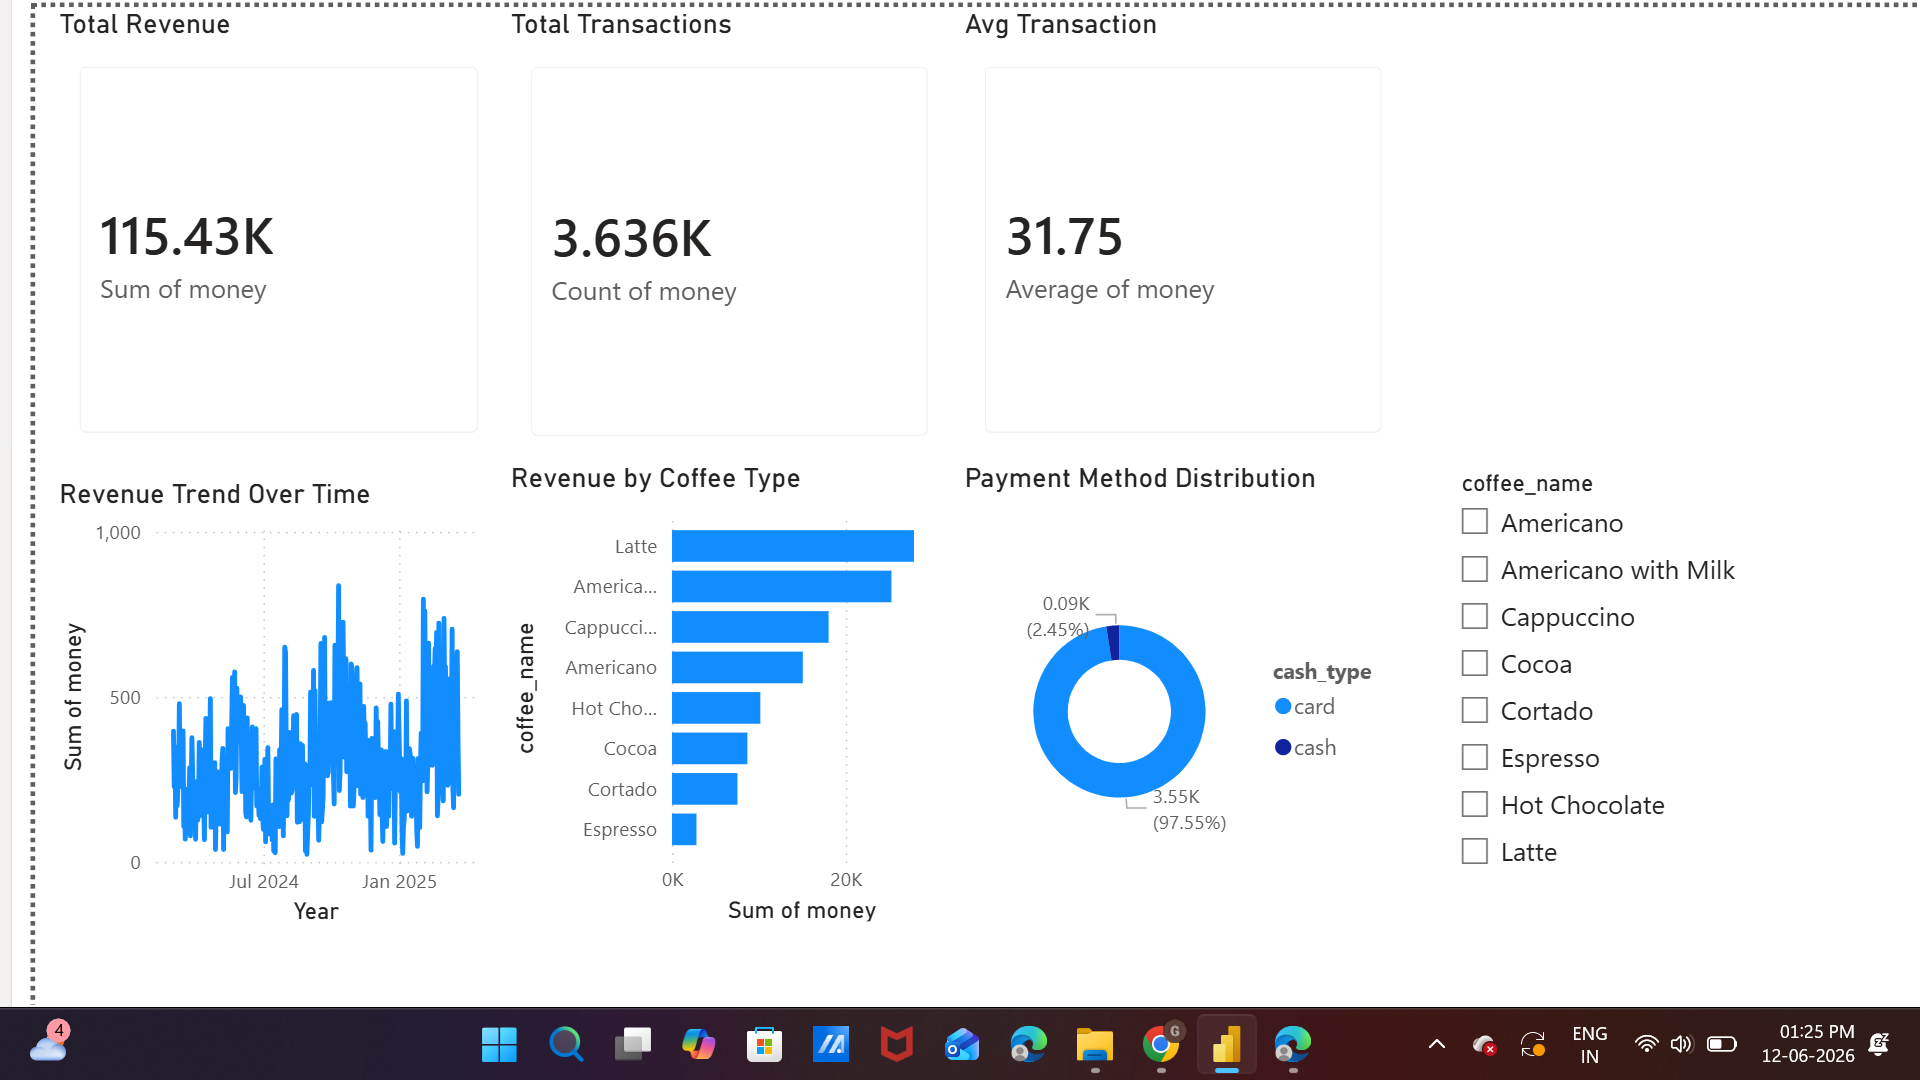

Layout of this report page (visuals, bound fields, positions):
{"tool":"powerbi","page":{"name":"Page 1","canvas":[1280,720],"ordinal":0},"visuals":[{"type":"cardVisual","title":"Total Revenue","fields":{"Data":["Sum(index_1.money)"]},"box":[10,0,280,280],"z":0},{"type":"cardVisual","title":"Total Transactions","fields":{"Data":["CountNonNull(index_1.money)"]},"box":[289.1,0,279.7,281.6],"z":1},{"type":"cardVisual","title":"Avg Transaction","fields":{"Data":["Avg(index_1.money)"]},"box":[568.8,0,279.7,279.7],"z":2},{"type":"lineChart","title":"Revenue Trend Over Time","fields":{"Y":["Sum(index_1.money)"],"Category":["index_1.date.Variation.Date Hierarchy.Year","index_1.date.Variation.Date Hierarchy.Quarter","index_1.date.Variation.Date Hierarchy.Month","index_1.date.Variation.Date Hierarchy.Day"]},"box":[10,290,280,280],"z":3},{"type":"clusteredBarChart","title":"Revenue by Coffee Type","fields":{"Y":["Sum(index_1.money)"],"Category":["index_1.coffee_name"]},"box":[289.1,279.7,279.7,289.1],"z":4},{"type":"slicer","fields":{"Values":["index_1.coffee_name"]},"box":[867.4,279.7,279.7,279.7],"z":6},{"type":"donutChart","title":"Payment Method Distribution","fields":{"Category":["index_1.cash_type"],"Y":["CountNonNull(index_1.cash_type)"]},"box":[569,280,280,289],"z":7}]}

Visuals, with their boxes on the page's 1280x720 design canvas (x1, y1, x2, y2). These are canvas units, not pixel positions in the 1920x1080 screenshot, which may show the page scaled, cropped or inside an application window:
"Total Revenue" cardVisual: select_region(10, 0, 290, 280)
"Total Transactions" cardVisual: select_region(289, 0, 569, 282)
"Avg Transaction" cardVisual: select_region(569, 0, 848, 280)
"Revenue Trend Over Time" lineChart: select_region(10, 290, 290, 570)
"Revenue by Coffee Type" clusteredBarChart: select_region(289, 280, 569, 569)
slicer - index_1.coffee_name: select_region(867, 280, 1147, 559)
"Payment Method Distribution" donutChart: select_region(569, 280, 849, 569)
